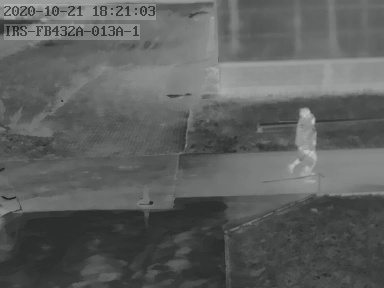person: (288, 107, 317, 180)
